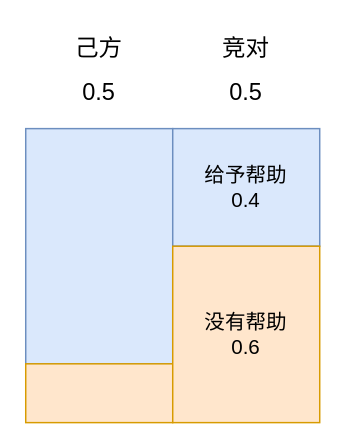
Image size: 345x448. Some labels were removed from this diagram. Each missing label, with the centre of its shape:
没有帮助 0.2: the point at 98,392
给予帮助 0.8: the point at 98,245
